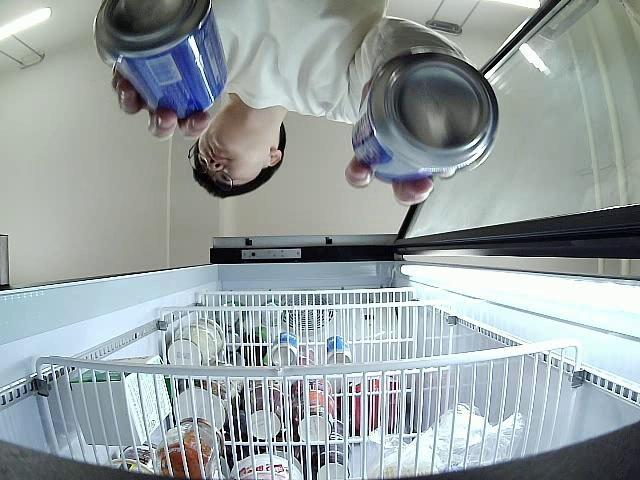13_pocariSweat: (352, 47, 500, 184), (91, 0, 228, 119)
